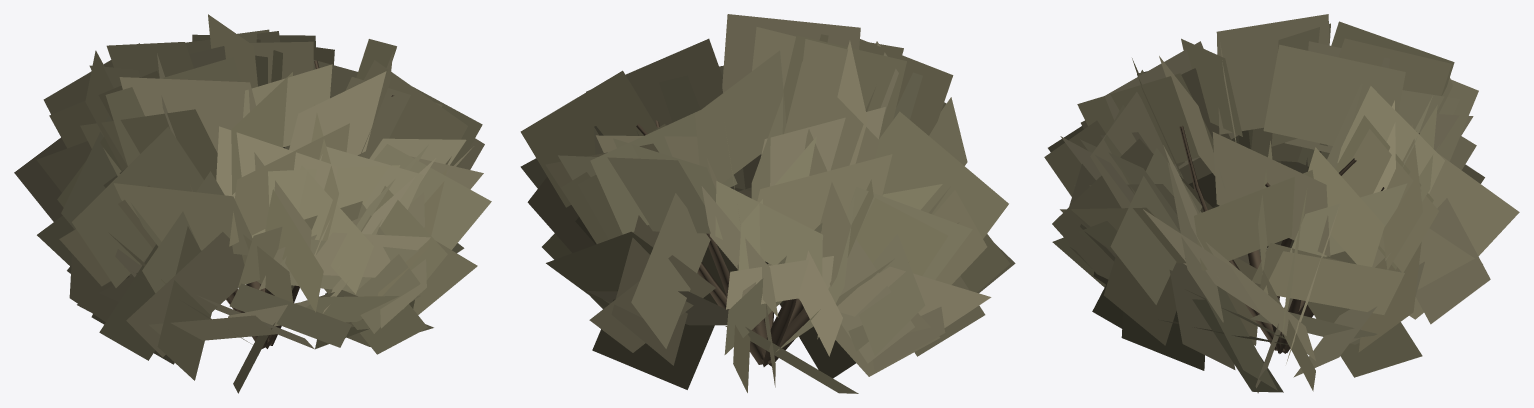
Rendered from shrub.sagebrush.dry.glb.
The picture shows the model from 3 angles, left to right: view 1: azimuth 30°, elevation 25°; view 2: azimuth 150°, elevation 25°; view 3: azimuth 270°, elevation 25°; orthographic projection. The views are drawn at different scales.
Parts seen in each view (by area): view 1: shrub_sagebrush_dry; view 2: shrub_sagebrush_dry; view 3: shrub_sagebrush_dry.
Part boxes in pixels (x1,y1,x2,y2): shrub_sagebrush_dry: (14,14,491,393); shrub_sagebrush_dry: (520,14,1015,393); shrub_sagebrush_dry: (1044,14,1519,393).
Size of what is drawn, in the model's own units: 1.78 by 1.24 by 1.68.
